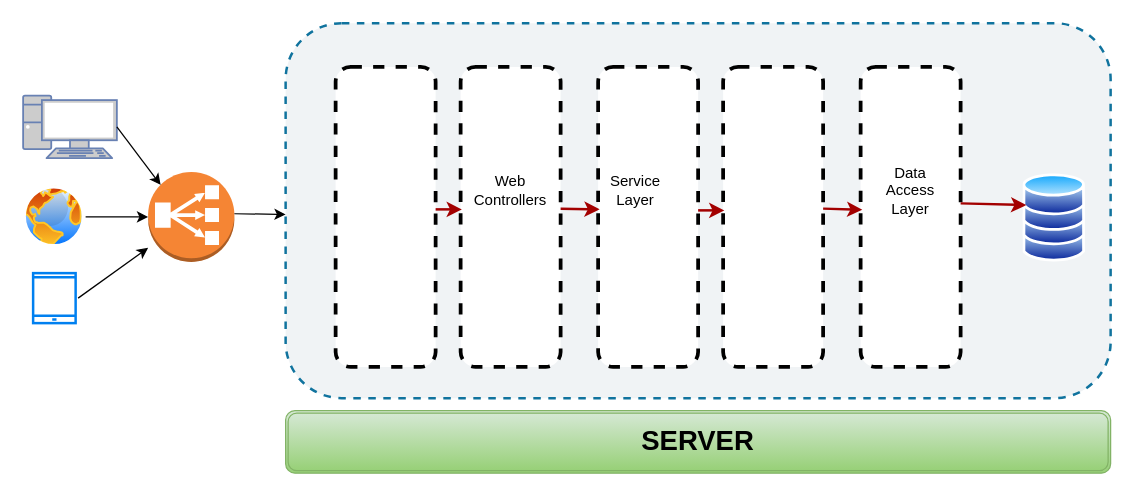
Image size: 1133x495. Some labels were removed from this diagram. The shapes that lost their labels are listed below. From the top down, each one's centre as x and y in pixels, then its label:
(385,216): HTTP Request Pipeline
(772,216): Repositories
